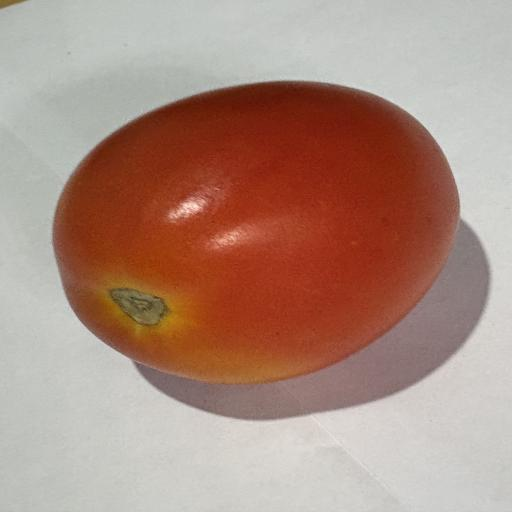ripe: (54, 81, 459, 384)
